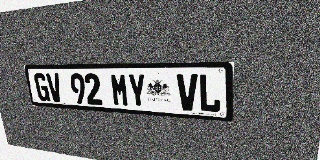2: (84, 73, 102, 105)
9: (69, 73, 87, 104)
G: (33, 73, 51, 102)
L: (198, 74, 221, 113)
M: (110, 73, 130, 107)
V: (177, 74, 198, 111), (46, 73, 63, 103)
Y: (127, 73, 147, 108)
